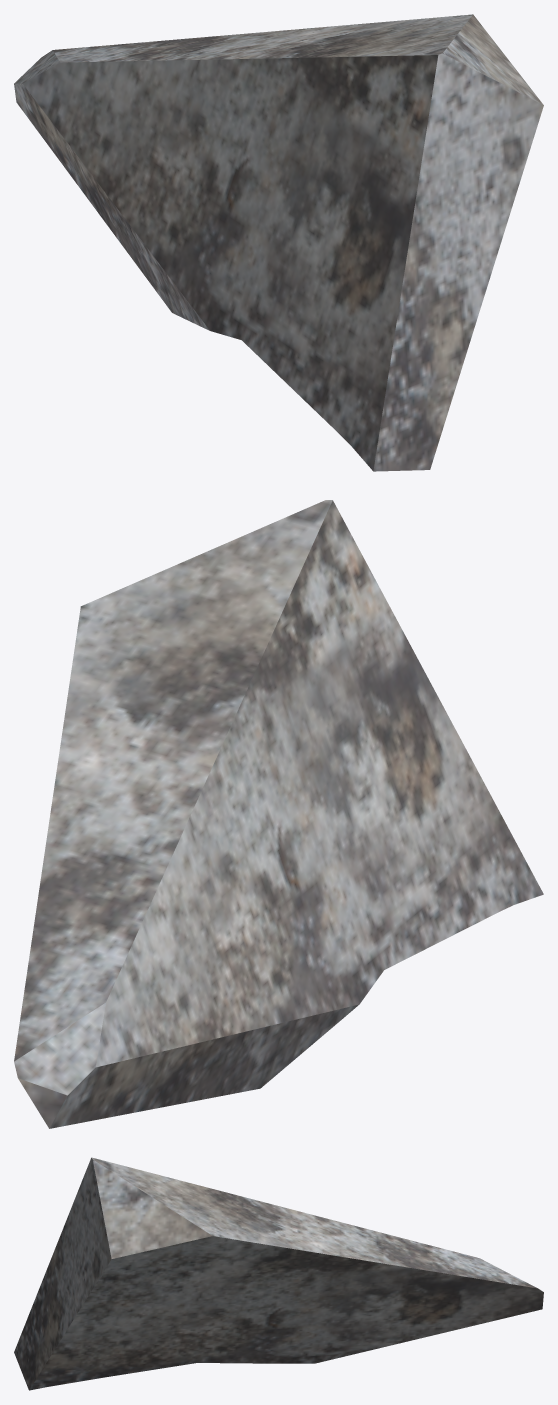
The model's file is Asteroid_Large_001_02_012_03_018.fbx.
3 renders of one model, top to bottom at view 1: azimuth 30°, elevation 25°; view 2: azimuth 150°, elevation 25°; view 3: azimuth 270°, elevation 25°, orthographic. The views are drawn at different scales.
Parts seen in each view (by area): view 1: Asteroid_Large_001_02_012_03_018; view 2: Asteroid_Large_001_02_012_03_018; view 3: Asteroid_Large_001_02_012_03_018.
Boxes of the visible parts, bbox=[...] form: Asteroid_Large_001_02_012_03_018: bbox=[14, 14, 543, 471]; Asteroid_Large_001_02_012_03_018: bbox=[14, 500, 543, 1128]; Asteroid_Large_001_02_012_03_018: bbox=[14, 1157, 543, 1390].
Size of the model in its own units: 3.67 by 5.18 by 9.9.
